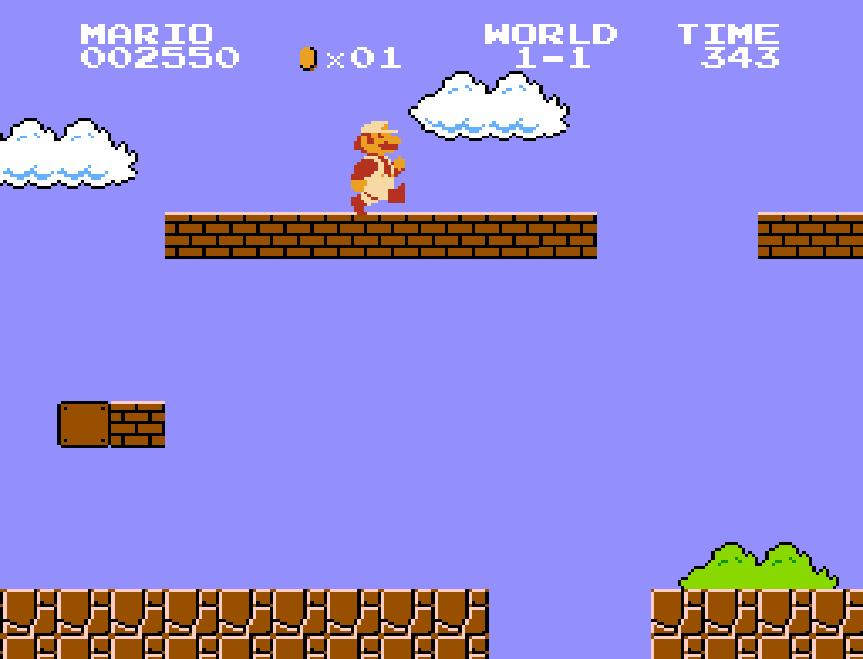fire_mario: (348, 118, 406, 216)
